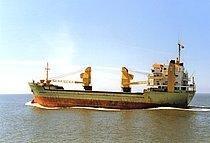Ship: (26, 37, 199, 113)
